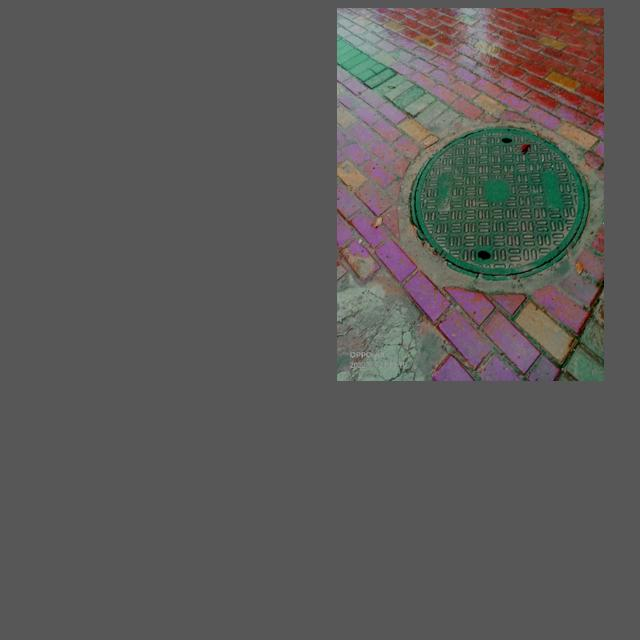good: (410, 127, 591, 280)
